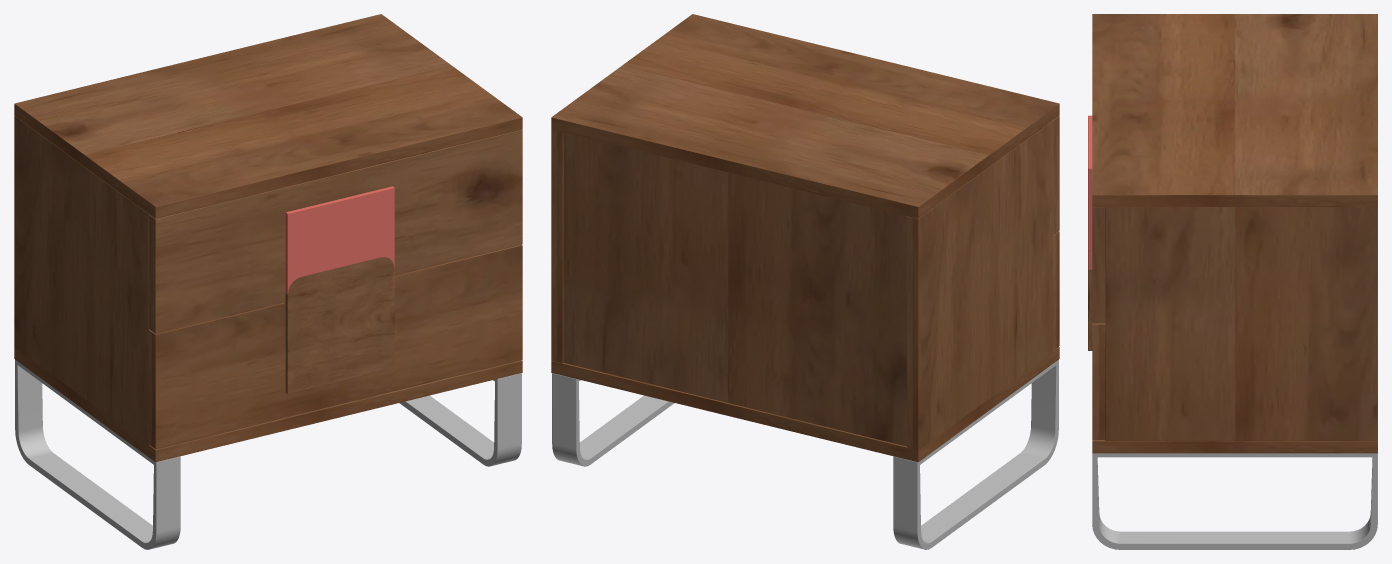
File: nightstand.glb
3 renders of one model, left to right at view 1: azimuth 30°, elevation 25°; view 2: azimuth 150°, elevation 25°; view 3: azimuth 270°, elevation 25°, orthographic.
Parts seen in each view (by area): view 1: nightstand; view 2: nightstand; view 3: nightstand.
Part boxes in pixels (x1,y1,x2,y2): nightstand: [14, 14, 522, 549]; nightstand: [551, 14, 1059, 549]; nightstand: [1088, 14, 1377, 549].
Bounding box in the file's own units: 0.6 × 0.5541 × 0.4057.
Materials: 6 (2 with a texture image).
